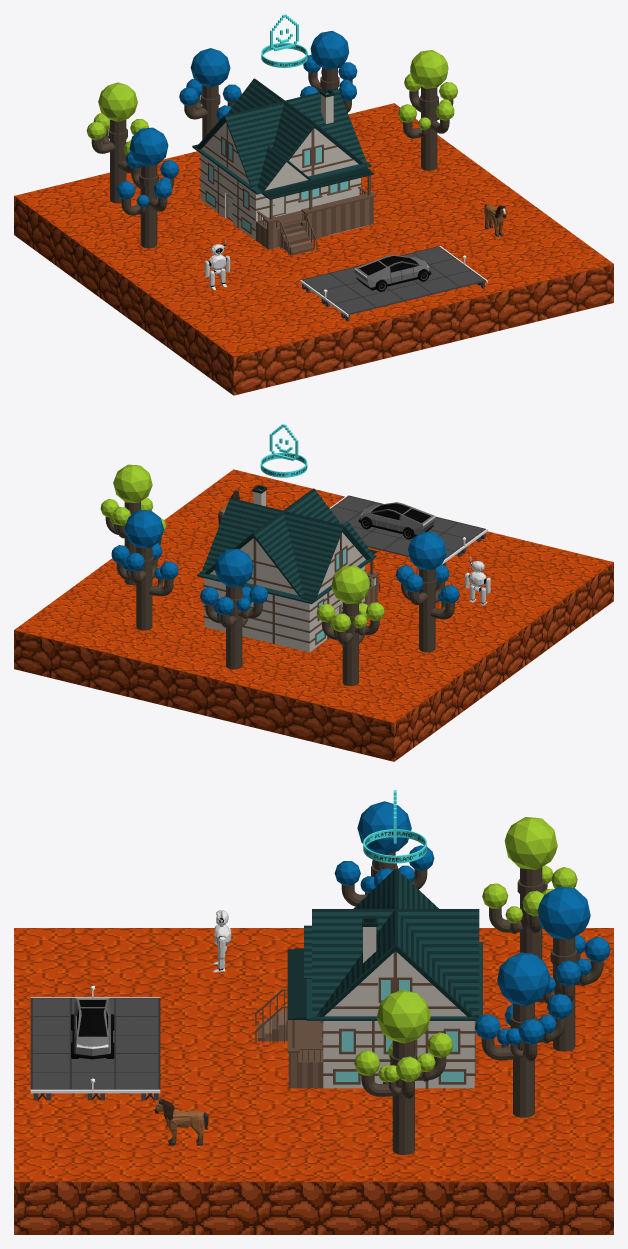
3 views of the same model, one above another, from view 1: azimuth 30°, elevation 25°; view 2: azimuth 150°, elevation 25°; view 3: azimuth 270°, elevation 25° (orthographic). The views are drawn at different scales.
Visible parts, largest first — view 1: Cube.001, Cube.793, VEHICLES_CYBERTRUCK, TYPE_PREMIUM, OBJRANDOM_PLATZEEBOT, ANIMAL_CABALLO; view 2: Cube.001, Cube.793, VEHICLES_CYBERTRUCK, TYPE_PREMIUM, OBJRANDOM_PLATZEEBOT; view 3: Cube.001, Cube.793, VEHICLES_CYBERTRUCK, TYPE_PREMIUM, ANIMAL_CABALLO, OBJRANDOM_PLATZEEBOT.
Boxes of the visible parts, left/top/right/bottom form: Cube.001: left=14, top=30, right=613, bottom=395; Cube.793: left=192, top=78, right=376, bottom=256; VEHICLES_CYBERTRUCK: left=354, top=254, right=431, bottom=291; TYPE_PREMIUM: left=261, top=14, right=307, bottom=67; OBJRANDOM_PLATZEEBOT: left=204, top=239, right=230, bottom=289; ANIMAL_CABALLO: left=484, top=204, right=506, bottom=236; Cube.001: left=14, top=464, right=613, bottom=761; Cube.793: left=197, top=485, right=379, bottom=652; VEHICLES_CYBERTRUCK: left=358, top=502, right=435, bottom=539; TYPE_PREMIUM: left=260, top=424, right=307, bottom=477; OBJRANDOM_PLATZEEBOT: left=465, top=556, right=490, bottom=605; Cube.001: left=14, top=801, right=613, bottom=1234; Cube.793: left=255, top=869, right=482, bottom=1088; VEHICLES_CYBERTRUCK: left=71, top=998, right=114, bottom=1059; TYPE_PREMIUM: left=363, top=790, right=426, bottom=863; ANIMAL_CABALLO: left=154, top=1098, right=208, bottom=1145; OBJRANDOM_PLATZEEBOT: left=213, top=909, right=231, bottom=972.
Size of the model in its own units: 4000 by 2410 by 4000.
Materials: 30 (6 with a texture image).
